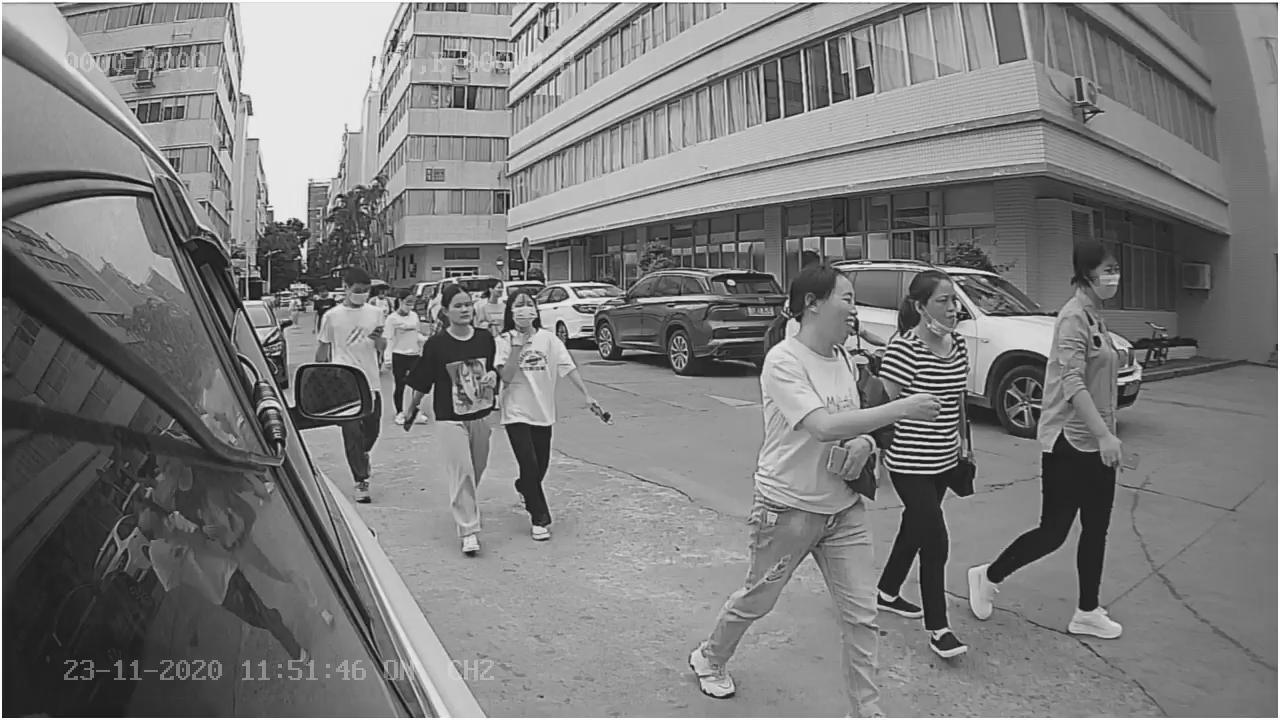person: (965, 235, 1144, 640), (405, 285, 502, 558)
